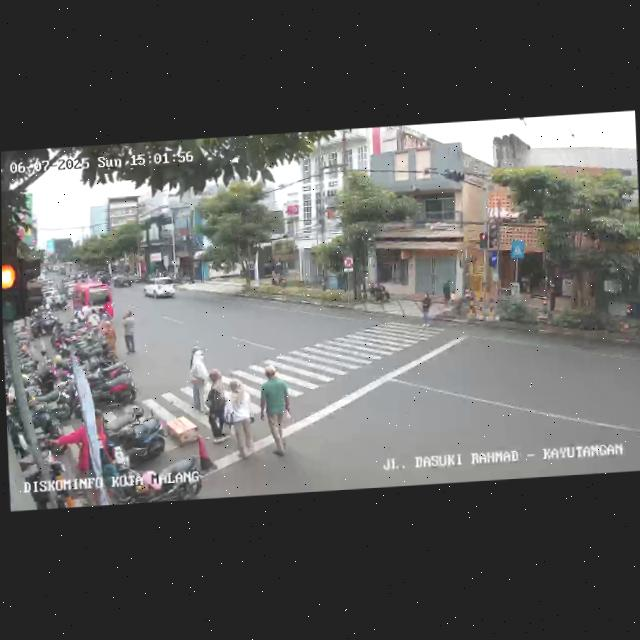car: (72, 280, 114, 321), (141, 275, 178, 301), (112, 273, 134, 288)
person: (257, 365, 292, 450), (222, 378, 255, 460), (204, 368, 232, 445), (186, 347, 208, 411), (122, 307, 140, 356), (101, 320, 117, 355), (419, 292, 432, 328)
